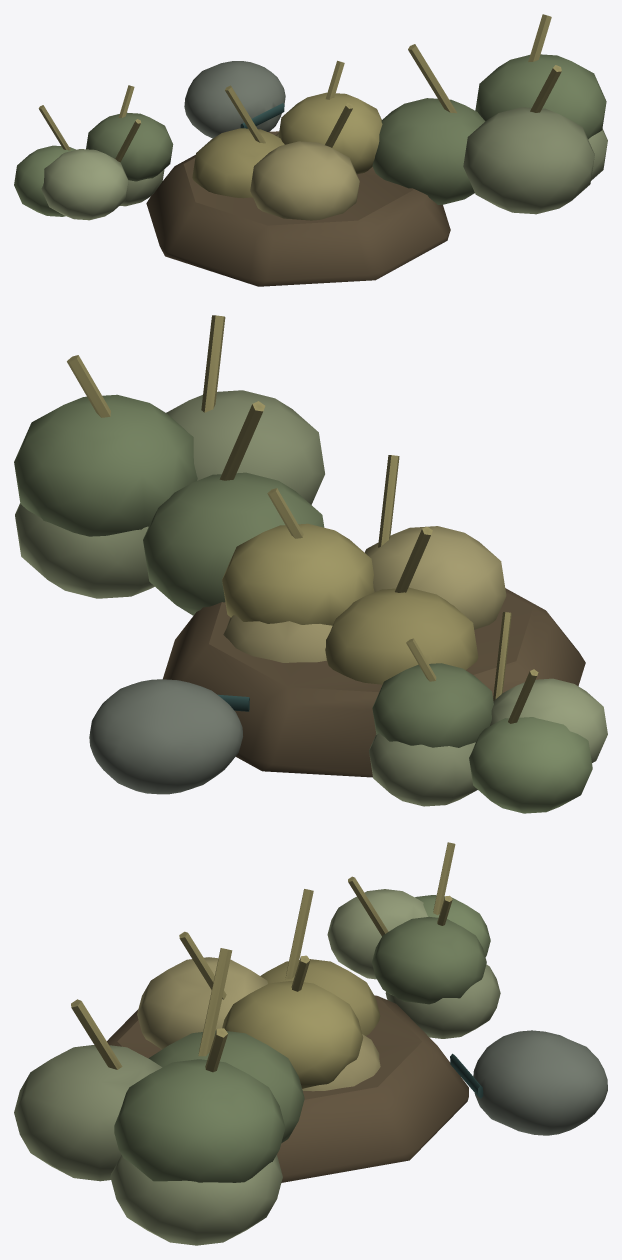
Rendered from bursage_c.glb.
3 renders of one model, top to bottom at view 1: azimuth 30°, elevation 25°; view 2: azimuth 150°, elevation 25°; view 3: azimuth 270°, elevation 25°, orthographic. The views are drawn at different scales.
Parts seen in each view (by area): view 1: Surface; view 2: Surface; view 3: Surface.
Boxes of the visible parts, x1,y1,x2,y2 form: Surface: [14, 14, 607, 286]; Surface: [14, 315, 607, 813]; Surface: [14, 842, 607, 1245].
Bounding box in the file's own units: 2.4 × 0.7957 × 1.97.
